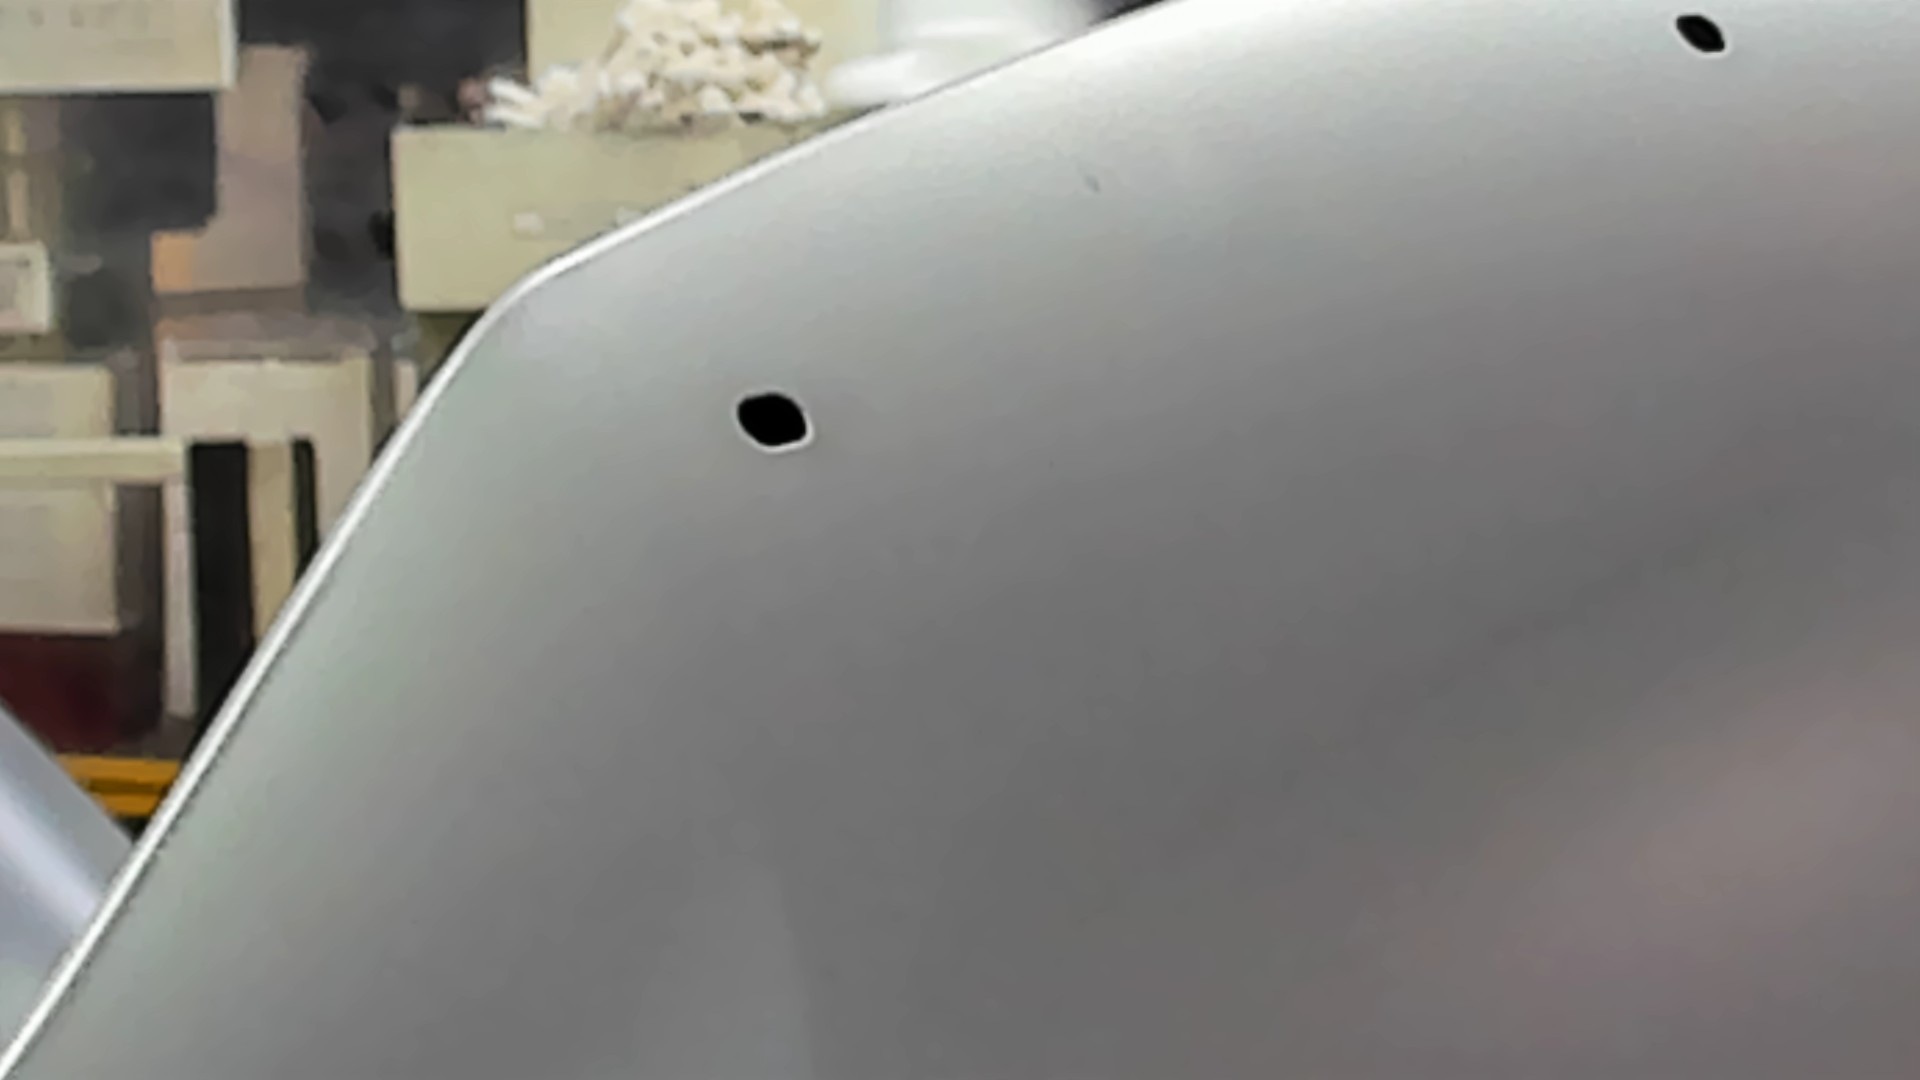amorfo: (729, 388, 819, 456), (1669, 7, 1735, 61)
